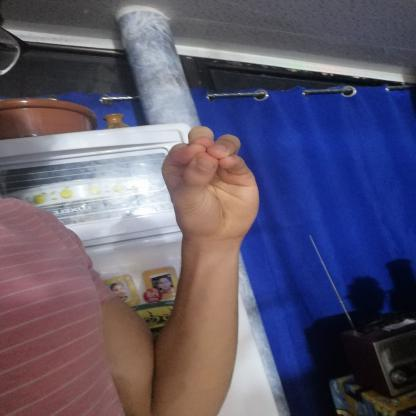HA: (146, 118, 281, 252)
